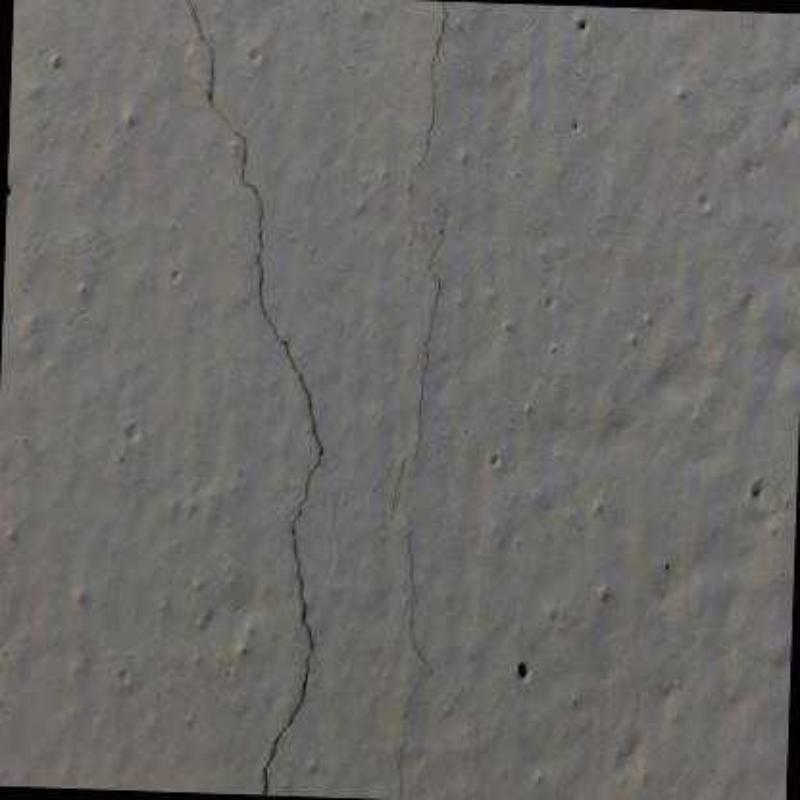pothole: (185, 0, 325, 789), (389, 214, 447, 516), (402, 1, 448, 226), (406, 522, 432, 672), (394, 674, 421, 800)
